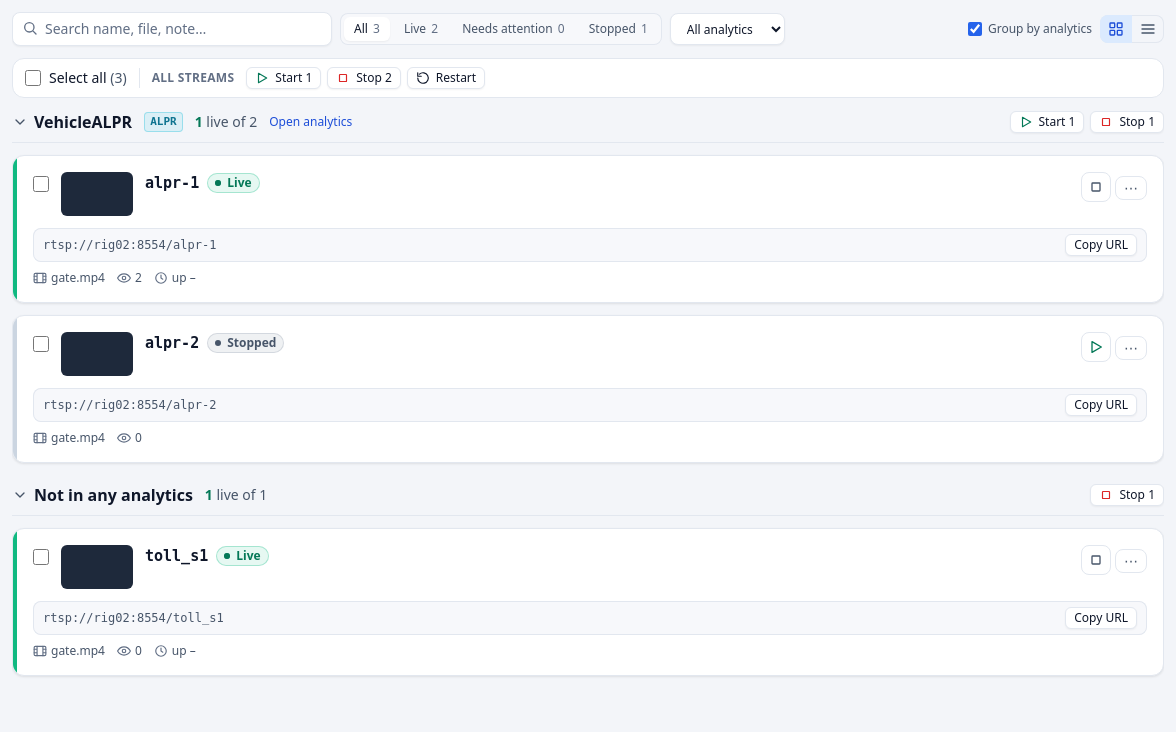
Test: Streams page layout › can show one flat list instead of sections
Check: the element named "Streams of VehicleALPR" is shown, box [12,110,1164,463]
Click the checkbox labelled "Group by analytics".
click(975, 29)  # box [968,22,982,36]
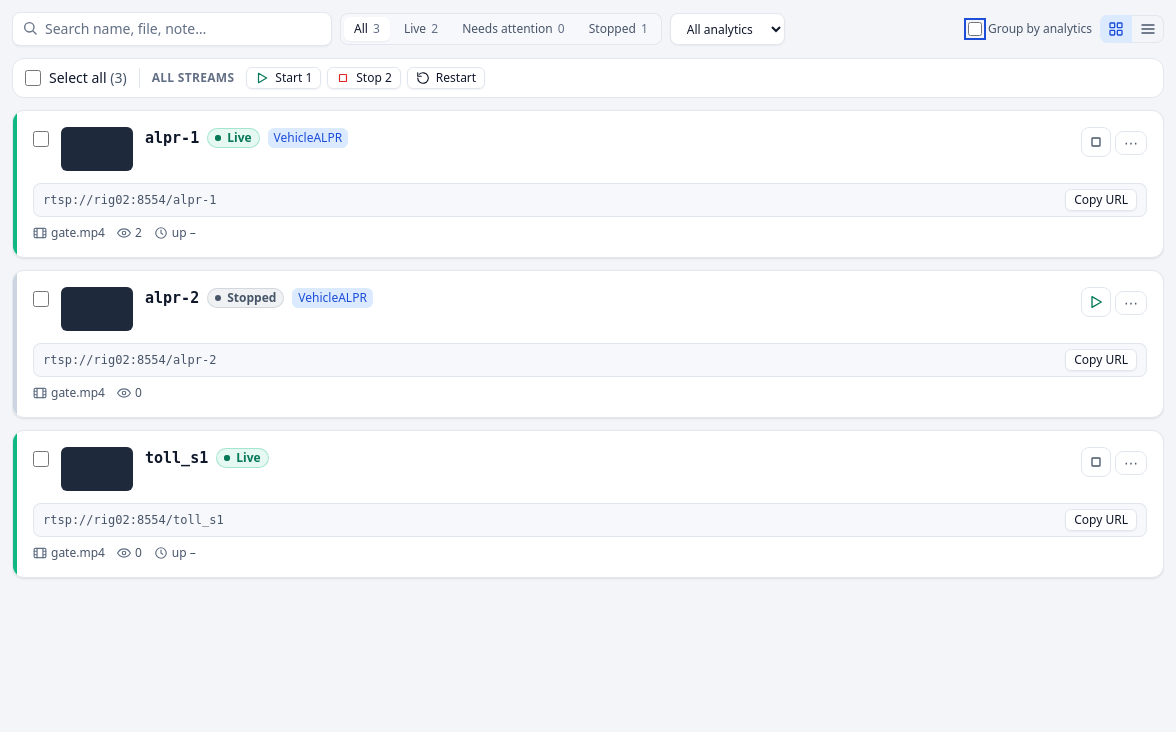
Check: the number of links "VehicleALPR" is 2, box [268,128,348,148]; [292,288,373,308]
